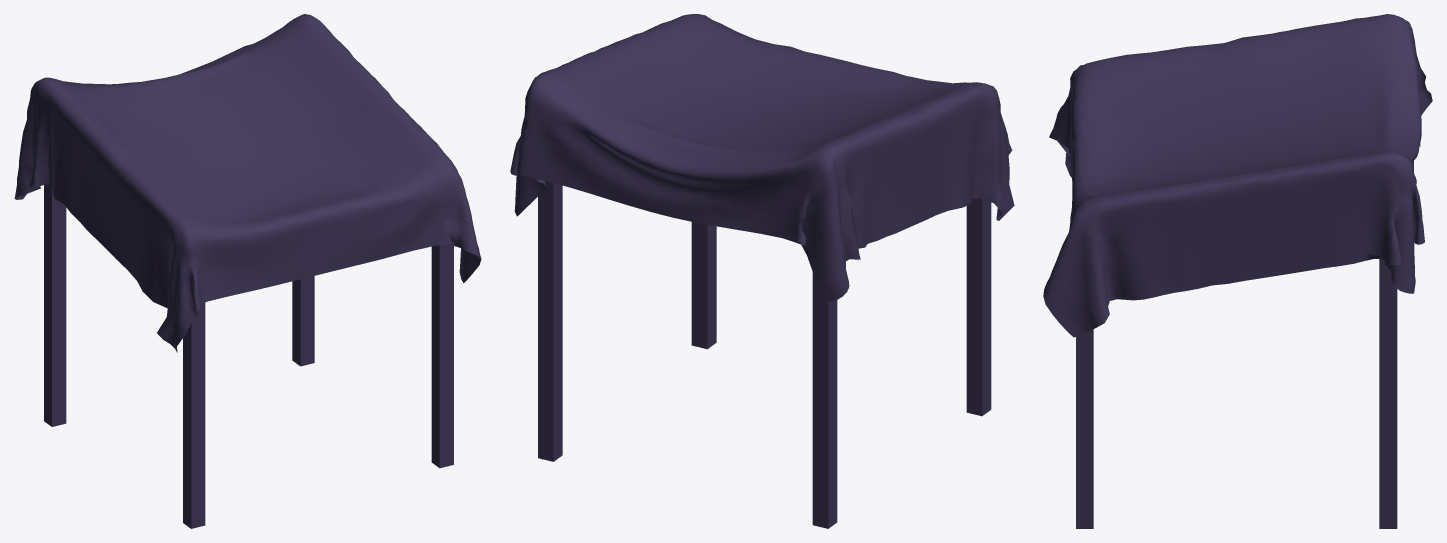
Rendered from Tent.fbx.
The picture shows the model from 3 angles, left to right: view 1: azimuth 30°, elevation 25°; view 2: azimuth 150°, elevation 25°; view 3: azimuth 270°, elevation 25°; orthographic projection. The views are drawn at different scales.
Visible parts, largest first — view 1: Tent; view 2: Tent; view 3: Tent.
Boxes of the visible parts, x1,y1,x2,y2 form: Tent: [14, 14, 481, 528]; Tent: [510, 14, 1014, 528]; Tent: [1043, 14, 1432, 528].
Size of the model in its own units: 219 by 232 by 218.
